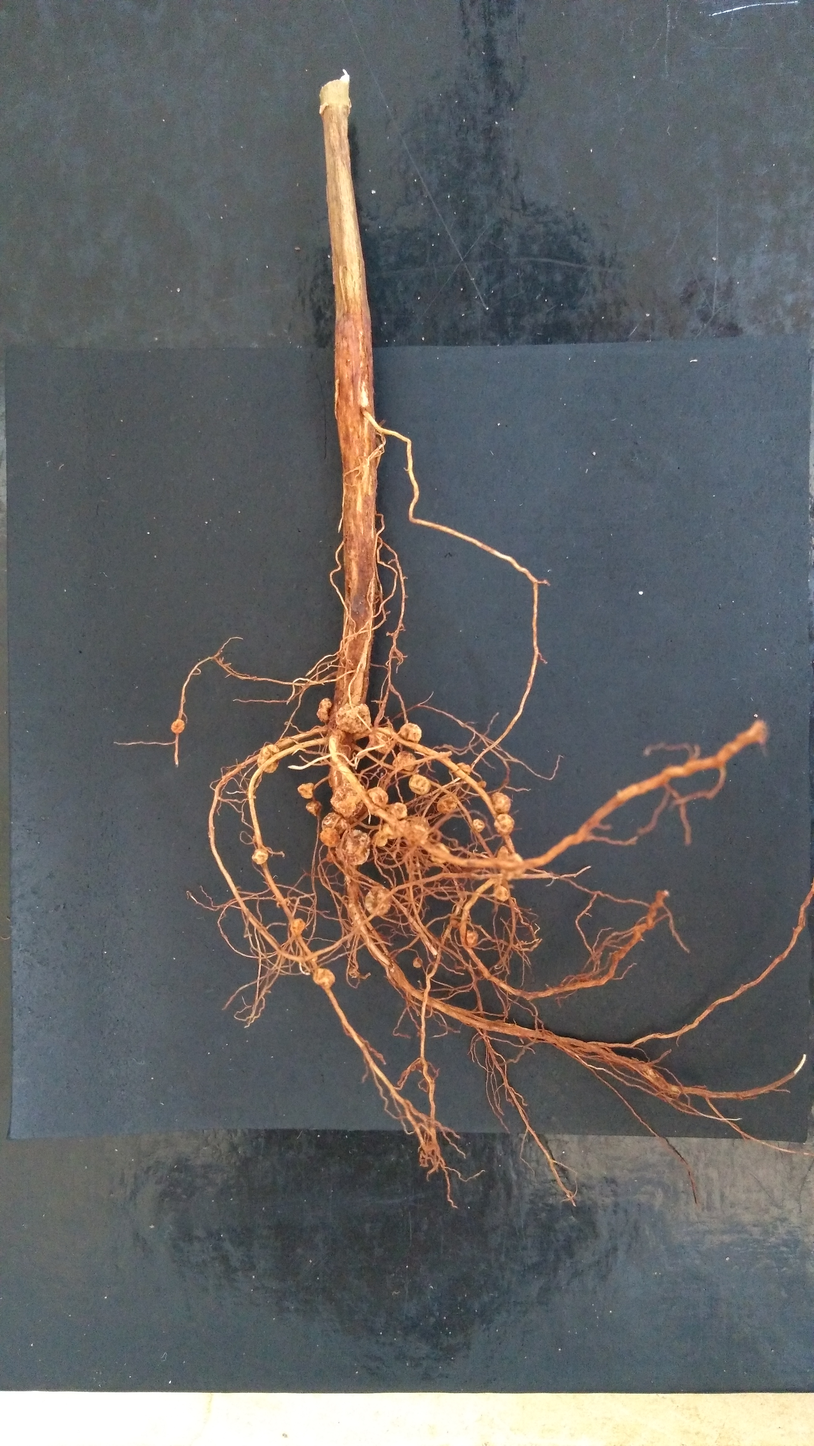nodule: (328, 781, 367, 819), (335, 827, 371, 866), (334, 702, 372, 734), (495, 844, 528, 879), (364, 884, 393, 917), (257, 742, 284, 776), (492, 812, 518, 838), (391, 749, 418, 774), (320, 812, 349, 835), (429, 840, 452, 867), (366, 784, 389, 809), (373, 729, 396, 754), (490, 790, 513, 815), (312, 966, 337, 989), (397, 722, 423, 744), (408, 773, 432, 796), (318, 826, 342, 847), (436, 792, 458, 814), (316, 696, 333, 724), (388, 800, 409, 821), (296, 781, 317, 800), (303, 799, 324, 817), (251, 847, 270, 866), (381, 821, 400, 840), (371, 829, 389, 848), (454, 761, 473, 778), (290, 917, 306, 937), (493, 884, 510, 902), (169, 718, 187, 734), (464, 929, 479, 948), (472, 817, 486, 834), (411, 956, 423, 969), (477, 779, 488, 789)
